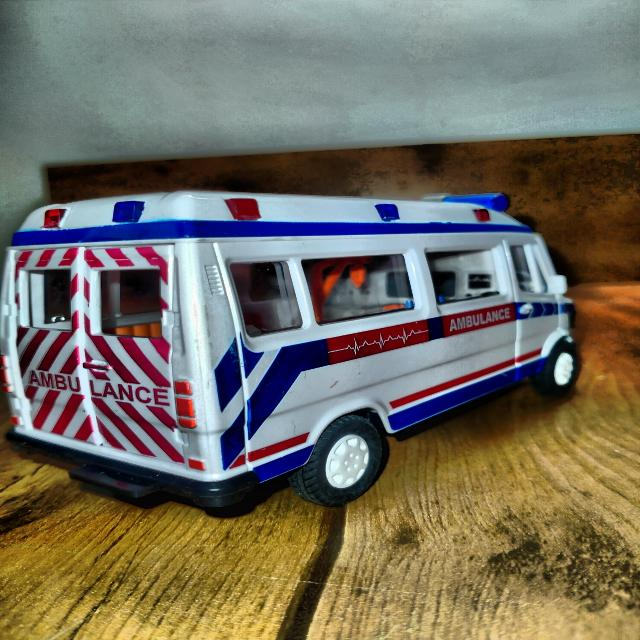Ambulance: (3, 191, 576, 506)
